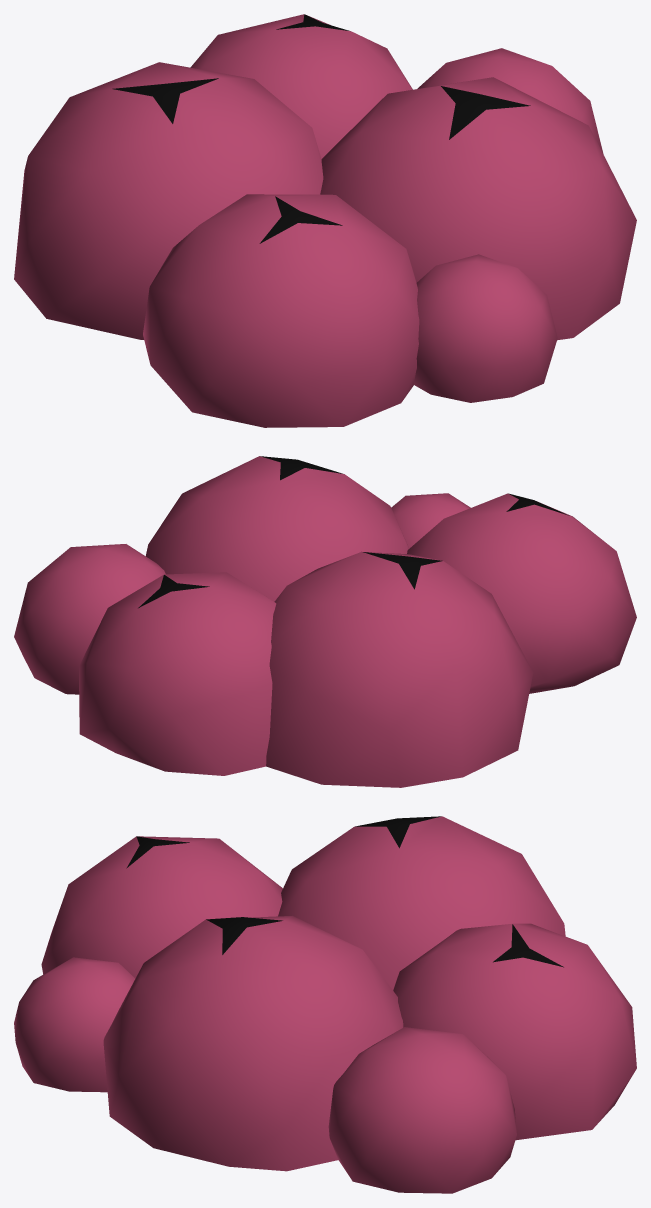
File: SM_BulbousPlant.fbx
The picture shows the model from 3 angles, top to bottom: view 1: azimuth 30°, elevation 25°; view 2: azimuth 150°, elevation 25°; view 3: azimuth 270°, elevation 25°; orthographic projection. The views are drawn at different scales.
Parts seen in each view (by area): view 1: Icosphere.010; view 2: Icosphere.010; view 3: Icosphere.010.
Boxes of the visible parts, left/top/right/bottom form: Icosphere.010: left=14, top=14, right=636, bottom=427; Icosphere.010: left=14, top=456, right=636, bottom=787; Icosphere.010: left=14, top=816, right=636, bottom=1193.
Size of the model in its own units: 6.26 by 2.06 by 6.44.
Materials: 1 (1 with a texture image).
